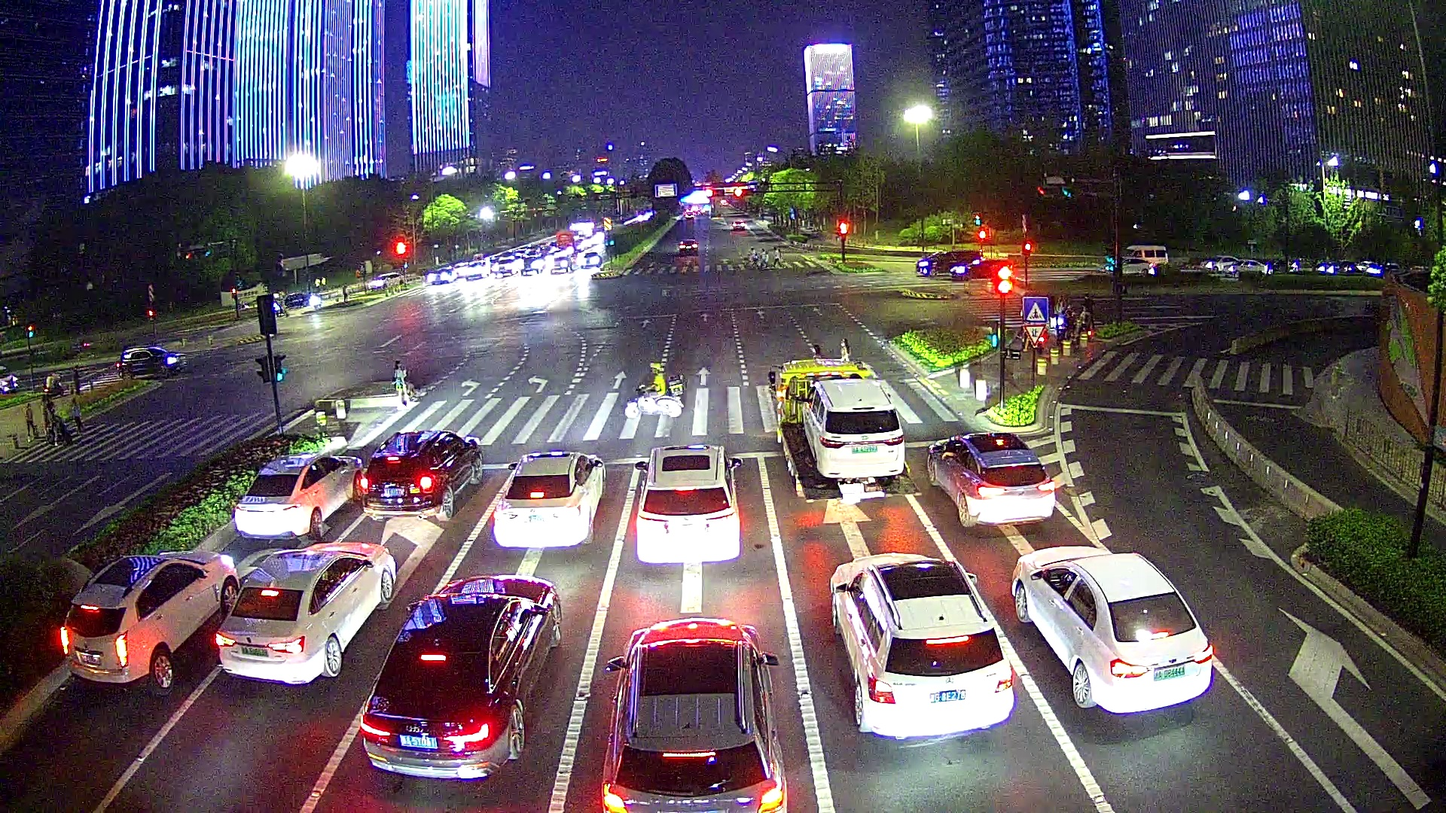person: (390, 357, 416, 408), (642, 361, 667, 406)
vehicle: (346, 571, 565, 781), (596, 607, 789, 813), (825, 546, 1017, 750), (1008, 542, 1219, 716), (207, 538, 401, 682), (49, 542, 236, 687), (764, 354, 921, 504), (630, 439, 749, 568), (921, 426, 1055, 530), (490, 439, 609, 554), (353, 422, 476, 526), (233, 441, 363, 538), (798, 374, 908, 480), (621, 373, 685, 421), (114, 346, 188, 371)
